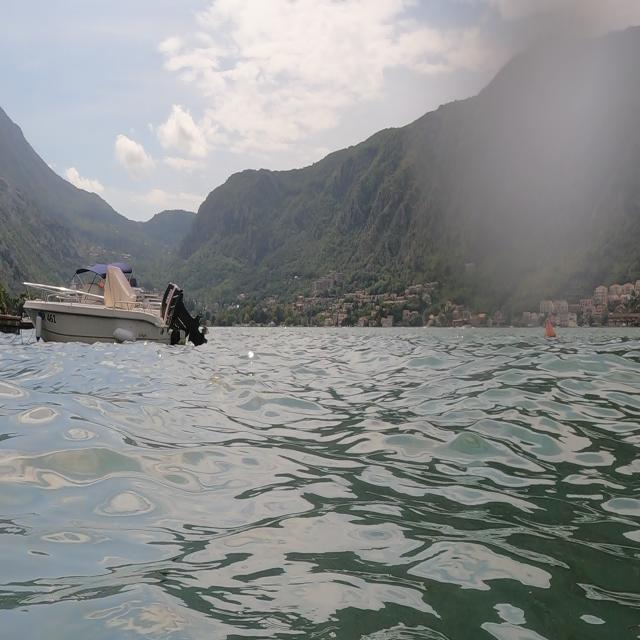boat: (20, 258, 209, 352)
buoy: (538, 312, 559, 347)
